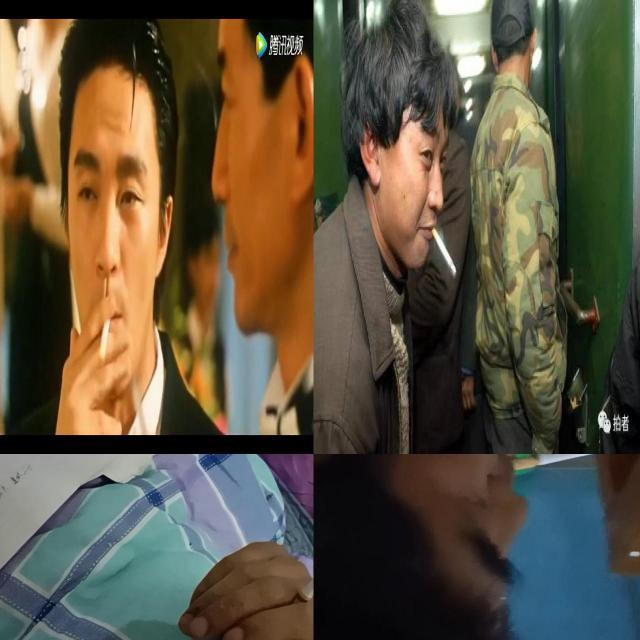cigarette: (285, 546, 313, 618), (510, 454, 616, 471), (430, 227, 458, 280), (99, 314, 111, 362)
